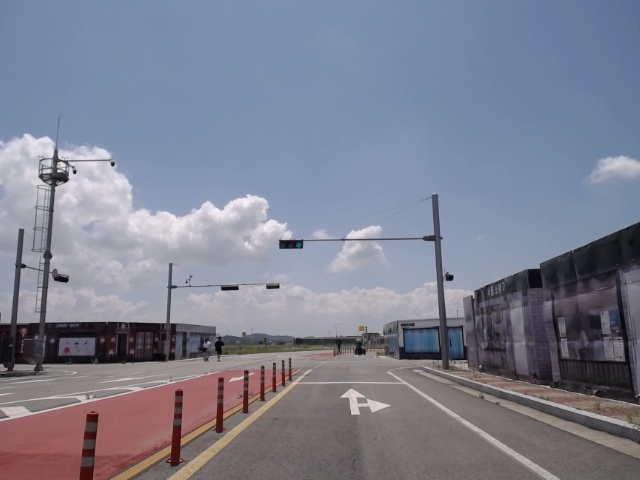green_3: (280, 241, 303, 249)
